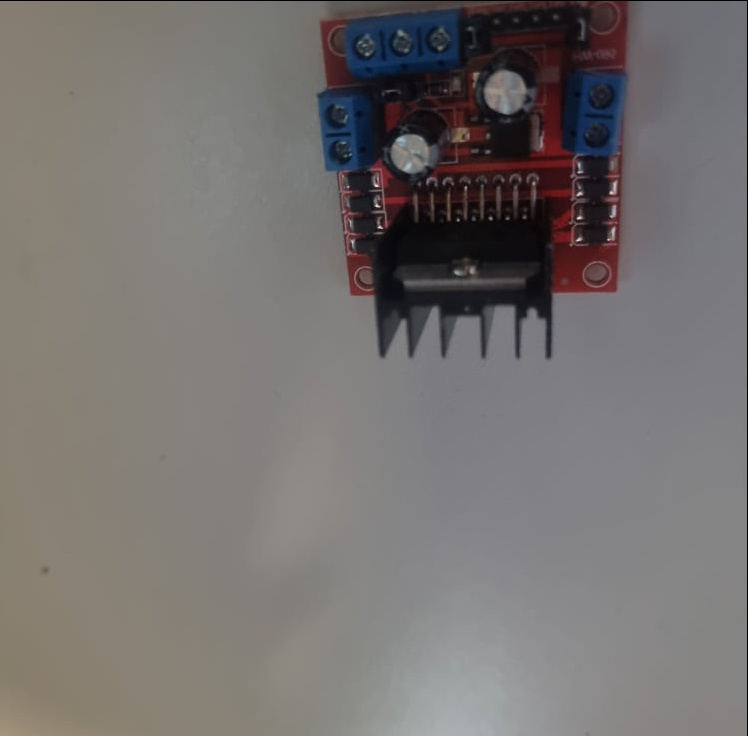MOTOR: (318, 0, 632, 361)
